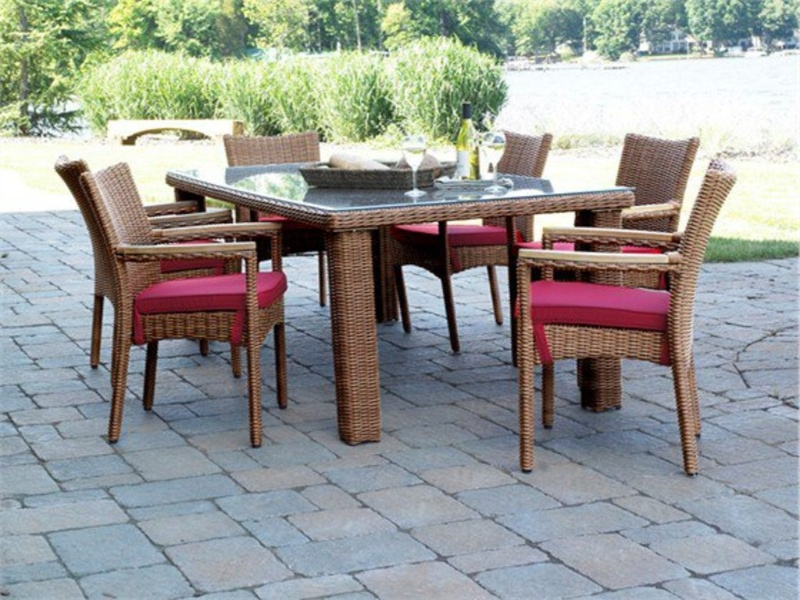dining table: (95, 112, 660, 455)
